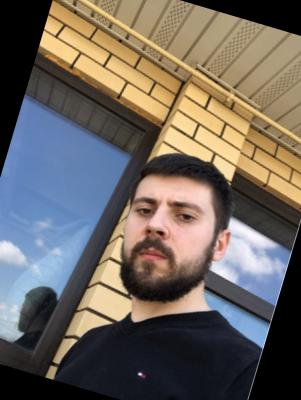without_mask: (107, 180, 225, 313)
